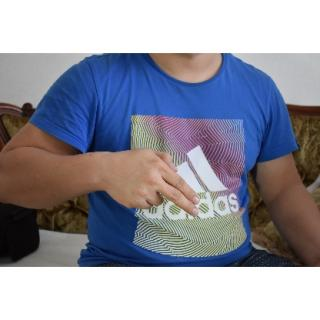AYN: (97, 145, 204, 222)
